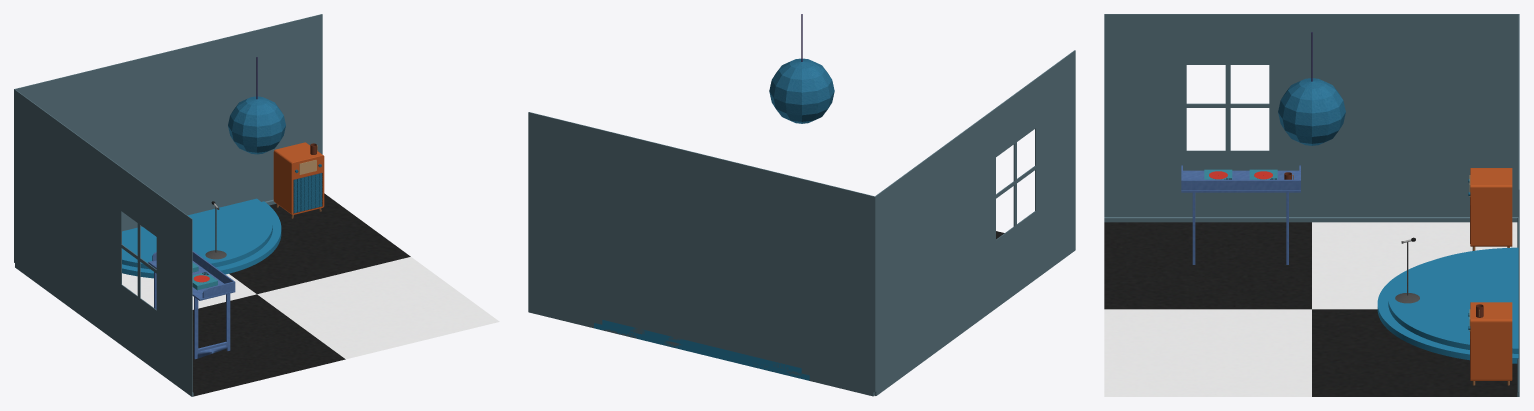
Rendered from Main Scene 2.fbx.
3 renders of one model, left to right at view 1: azimuth 30°, elevation 25°; view 2: azimuth 150°, elevation 25°; view 3: azimuth 270°, elevation 25°, orthographic. The views are drawn at different scales.
Visible parts, largest first — view 1: polySurface1, pPlane2, Asset_4:pDisc3, Asset_1:polySurface11, Asset_3:pSphere2, Asset_5:pCube4; view 2: polySurface1, Asset_3:pSphere2, Asset_4:pDisc3; view 3: polySurface1, pPlane2, Asset_4:pDisc3, Asset_3:pSphere2, polySurface11, Asset_1:polySurface11, Asset_5:pCube4, Asset_4:pCone3.
Boxes of the visible parts, box(x1,y1,x2,y2) form: polySurface1: box(14, 14, 322, 396); pPlane2: box(14, 193, 499, 396); Asset_4:pDisc3: box(122, 198, 281, 278); Asset_1:polySurface11: box(273, 142, 324, 218); Asset_3:pSphere2: box(228, 57, 285, 154); Asset_5:pCube4: box(148, 251, 235, 359); polySurface1: box(528, 50, 1075, 396); Asset_3:pSphere2: box(769, 14, 834, 123); Asset_4:pDisc3: box(594, 320, 809, 380); polySurface1: box(1104, 14, 1519, 396); pPlane2: box(1104, 222, 1517, 396); Asset_4:pDisc3: box(1377, 247, 1518, 363); Asset_3:pSphere2: box(1278, 32, 1345, 145); polySurface11: box(1468, 168, 1512, 250); Asset_1:polySurface11: box(1468, 302, 1512, 385); Asset_5:pCube4: box(1181, 165, 1300, 264); Asset_4:pCone3: box(1395, 237, 1419, 303).
Size of the model in its own units: 24 by 17.66 by 24.
8 materials, 8 textured.
